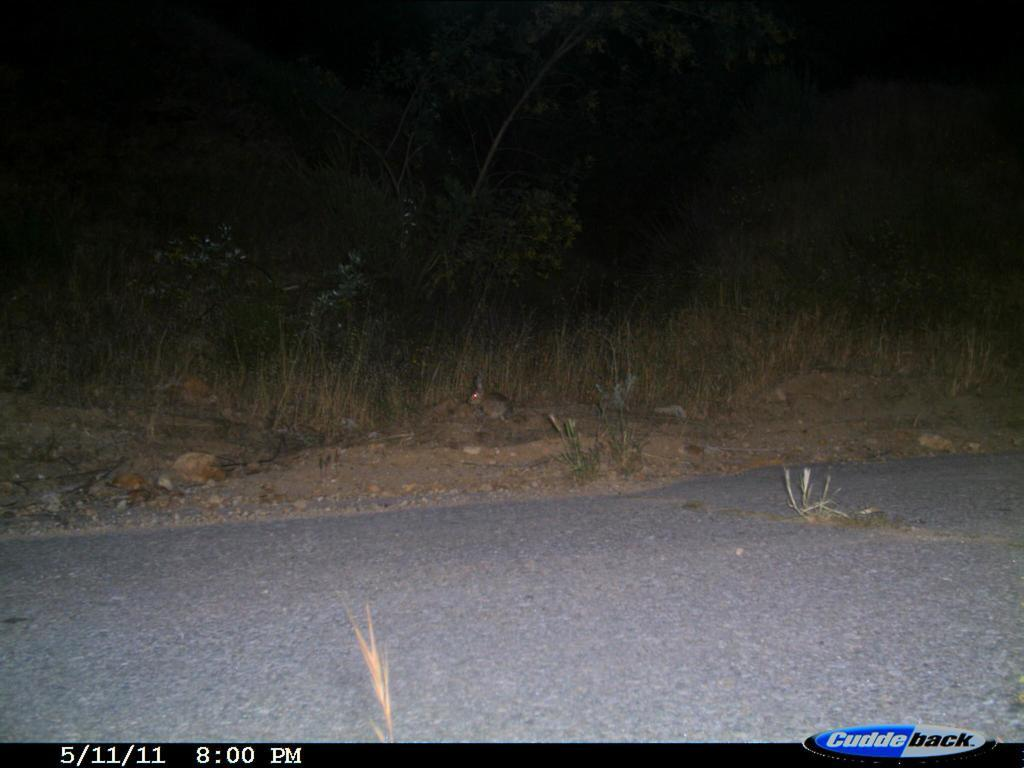rabbit: (463, 372, 520, 434)
